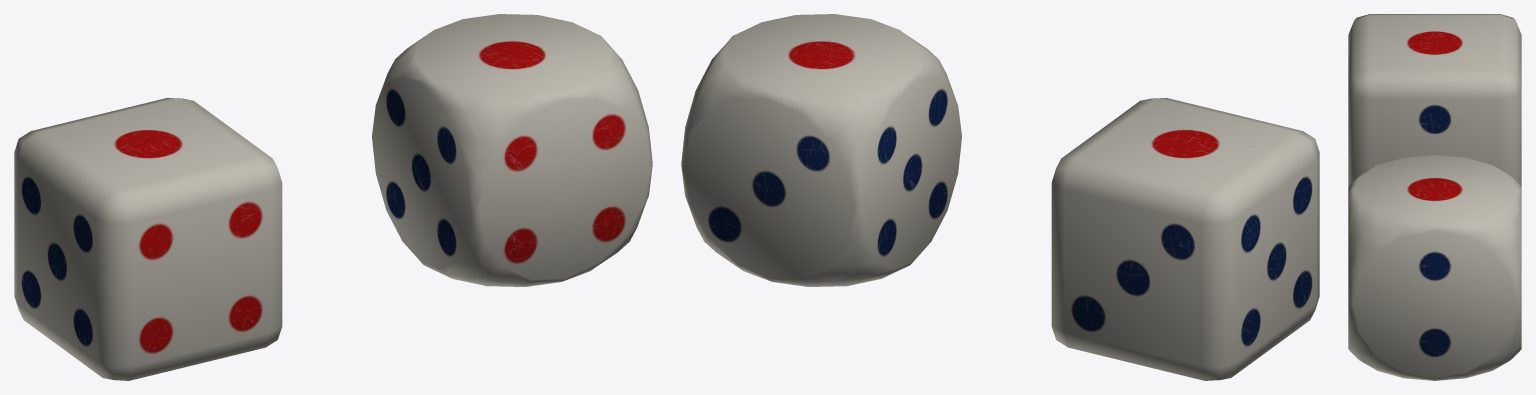
File: dice.glb
3 views of the same model, side by side, from view 1: azimuth 30°, elevation 25°; view 2: azimuth 150°, elevation 25°; view 3: azimuth 270°, elevation 25° (orthographic). The views are drawn at different scales.
Visible parts, largest first — view 1: Dice_Smooth_low, Dice_2_low; view 2: Dice_Smooth_low, Dice_2_low; view 3: Dice_2_low, Dice_Smooth_low.
Part boxes in pixels (x1=…): Dice_Smooth_low: x1=14, y1=97, x2=282, y2=380; Dice_2_low: x1=372, y1=14, x2=652, y2=286; Dice_Smooth_low: x1=1051, y1=97, x2=1319, y2=380; Dice_2_low: x1=681, y1=14, x2=961, y2=286; Dice_2_low: x1=1348, y1=155, x2=1521, y2=380; Dice_Smooth_low: x1=1348, y1=14, x2=1521, y2=186.
Size of the model in its own units: 2 by 0.6667 by 0.6667.
Materials: 2 (2 with a texture image).
